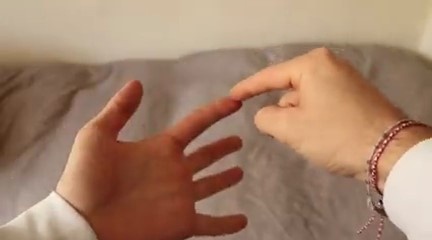E: (48, 34, 385, 240)
